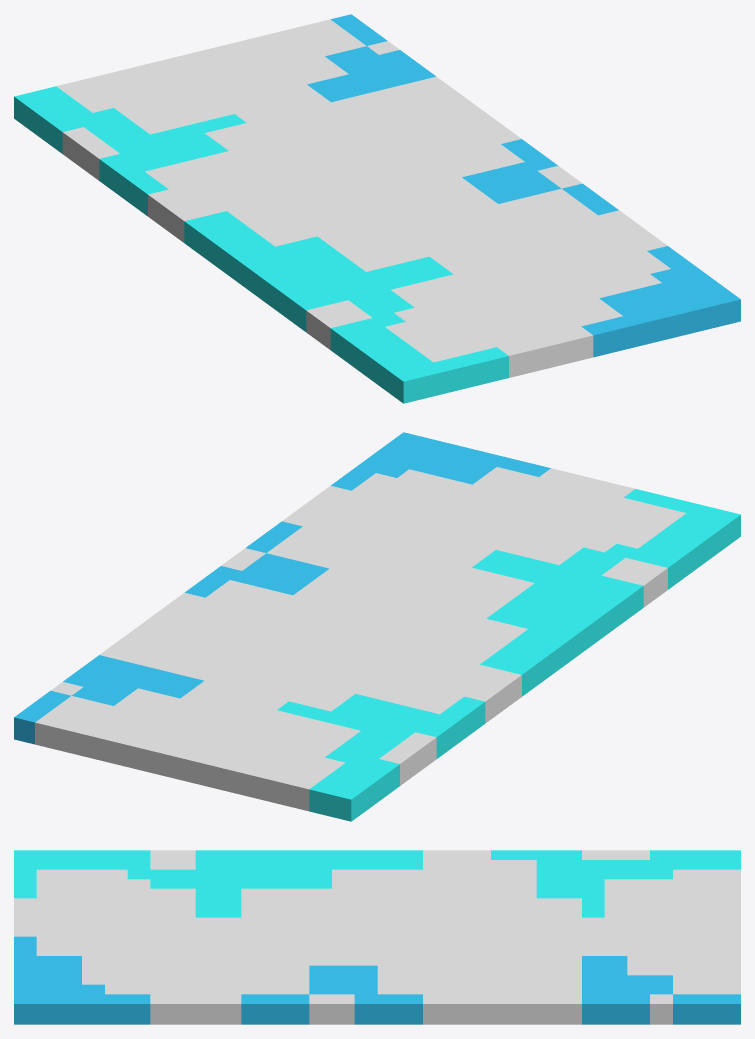
Rendered from roady_cross_assets-19.obj.
The picture shows the model from 3 angles, top to bottom: view 1: azimuth 30°, elevation 25°; view 2: azimuth 150°, elevation 25°; view 3: azimuth 270°, elevation 25°; orthographic projection. The views are drawn at different scales.
Bounding box in the file's own units: 1.6 × 0.1 × 3.2.
1 material, 1 textured.
